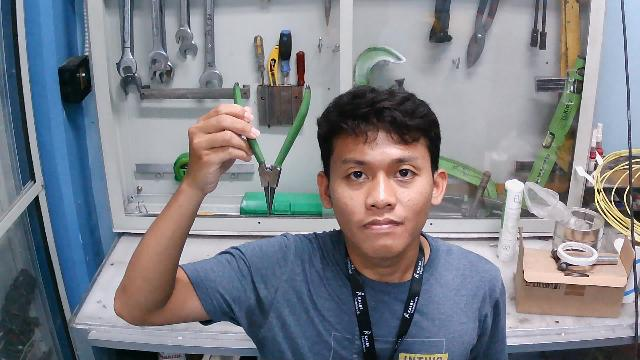tang_cucut_lancip_2: (221, 75, 315, 220)
